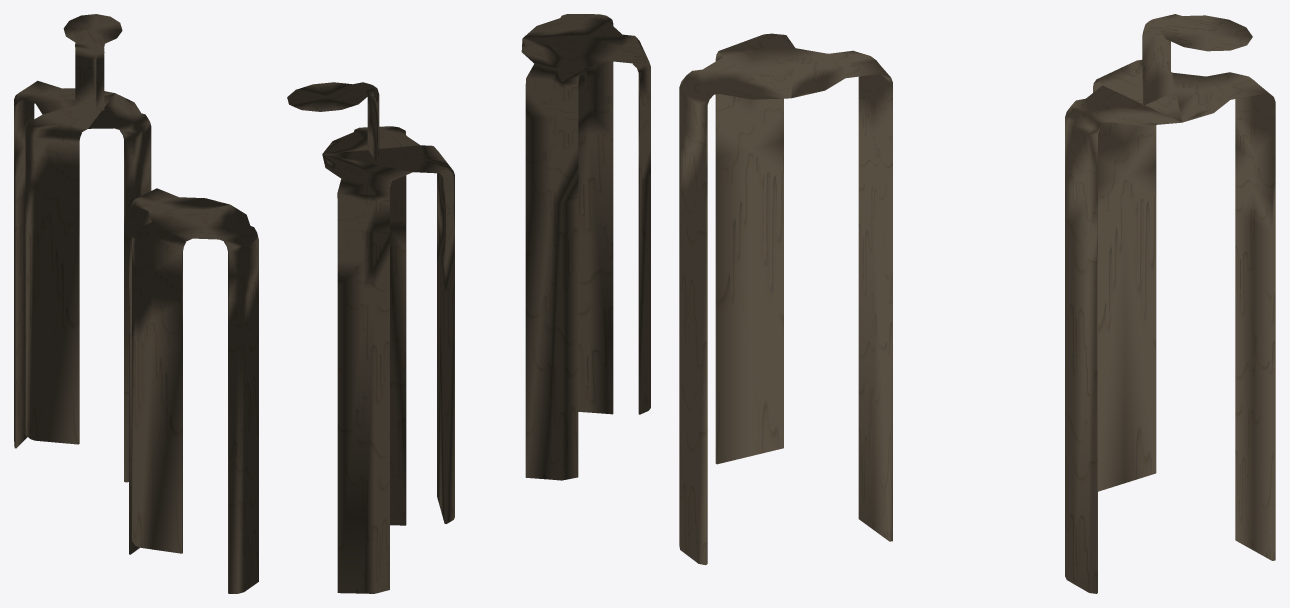
The model's file is stg220_MotChocoA_12.obj.
3 views of the same model, side by side, from view 1: azimuth 30°, elevation 25°; view 2: azimuth 150°, elevation 25°; view 3: azimuth 270°, elevation 25° (orthographic). The views are drawn at different scales.
Parts seen in each view (by area): view 1: polygon0, polygon1; view 2: polygon0, polygon1; view 3: polygon1, polygon0.
Boxes of the visible parts, <box> form: polygon0: <box>129,188,258,593</box>; polygon1: <box>14,14,151,482</box>; polygon0: <box>521,14,650,480</box>; polygon1: <box>287,82,454,593</box>; polygon1: <box>1065,14,1275,593</box>; polygon0: <box>679,33,892,565</box>.
Size of the model in its own units: 711 by 1880 by 1846.
Materials: 1 (1 with a texture image).
